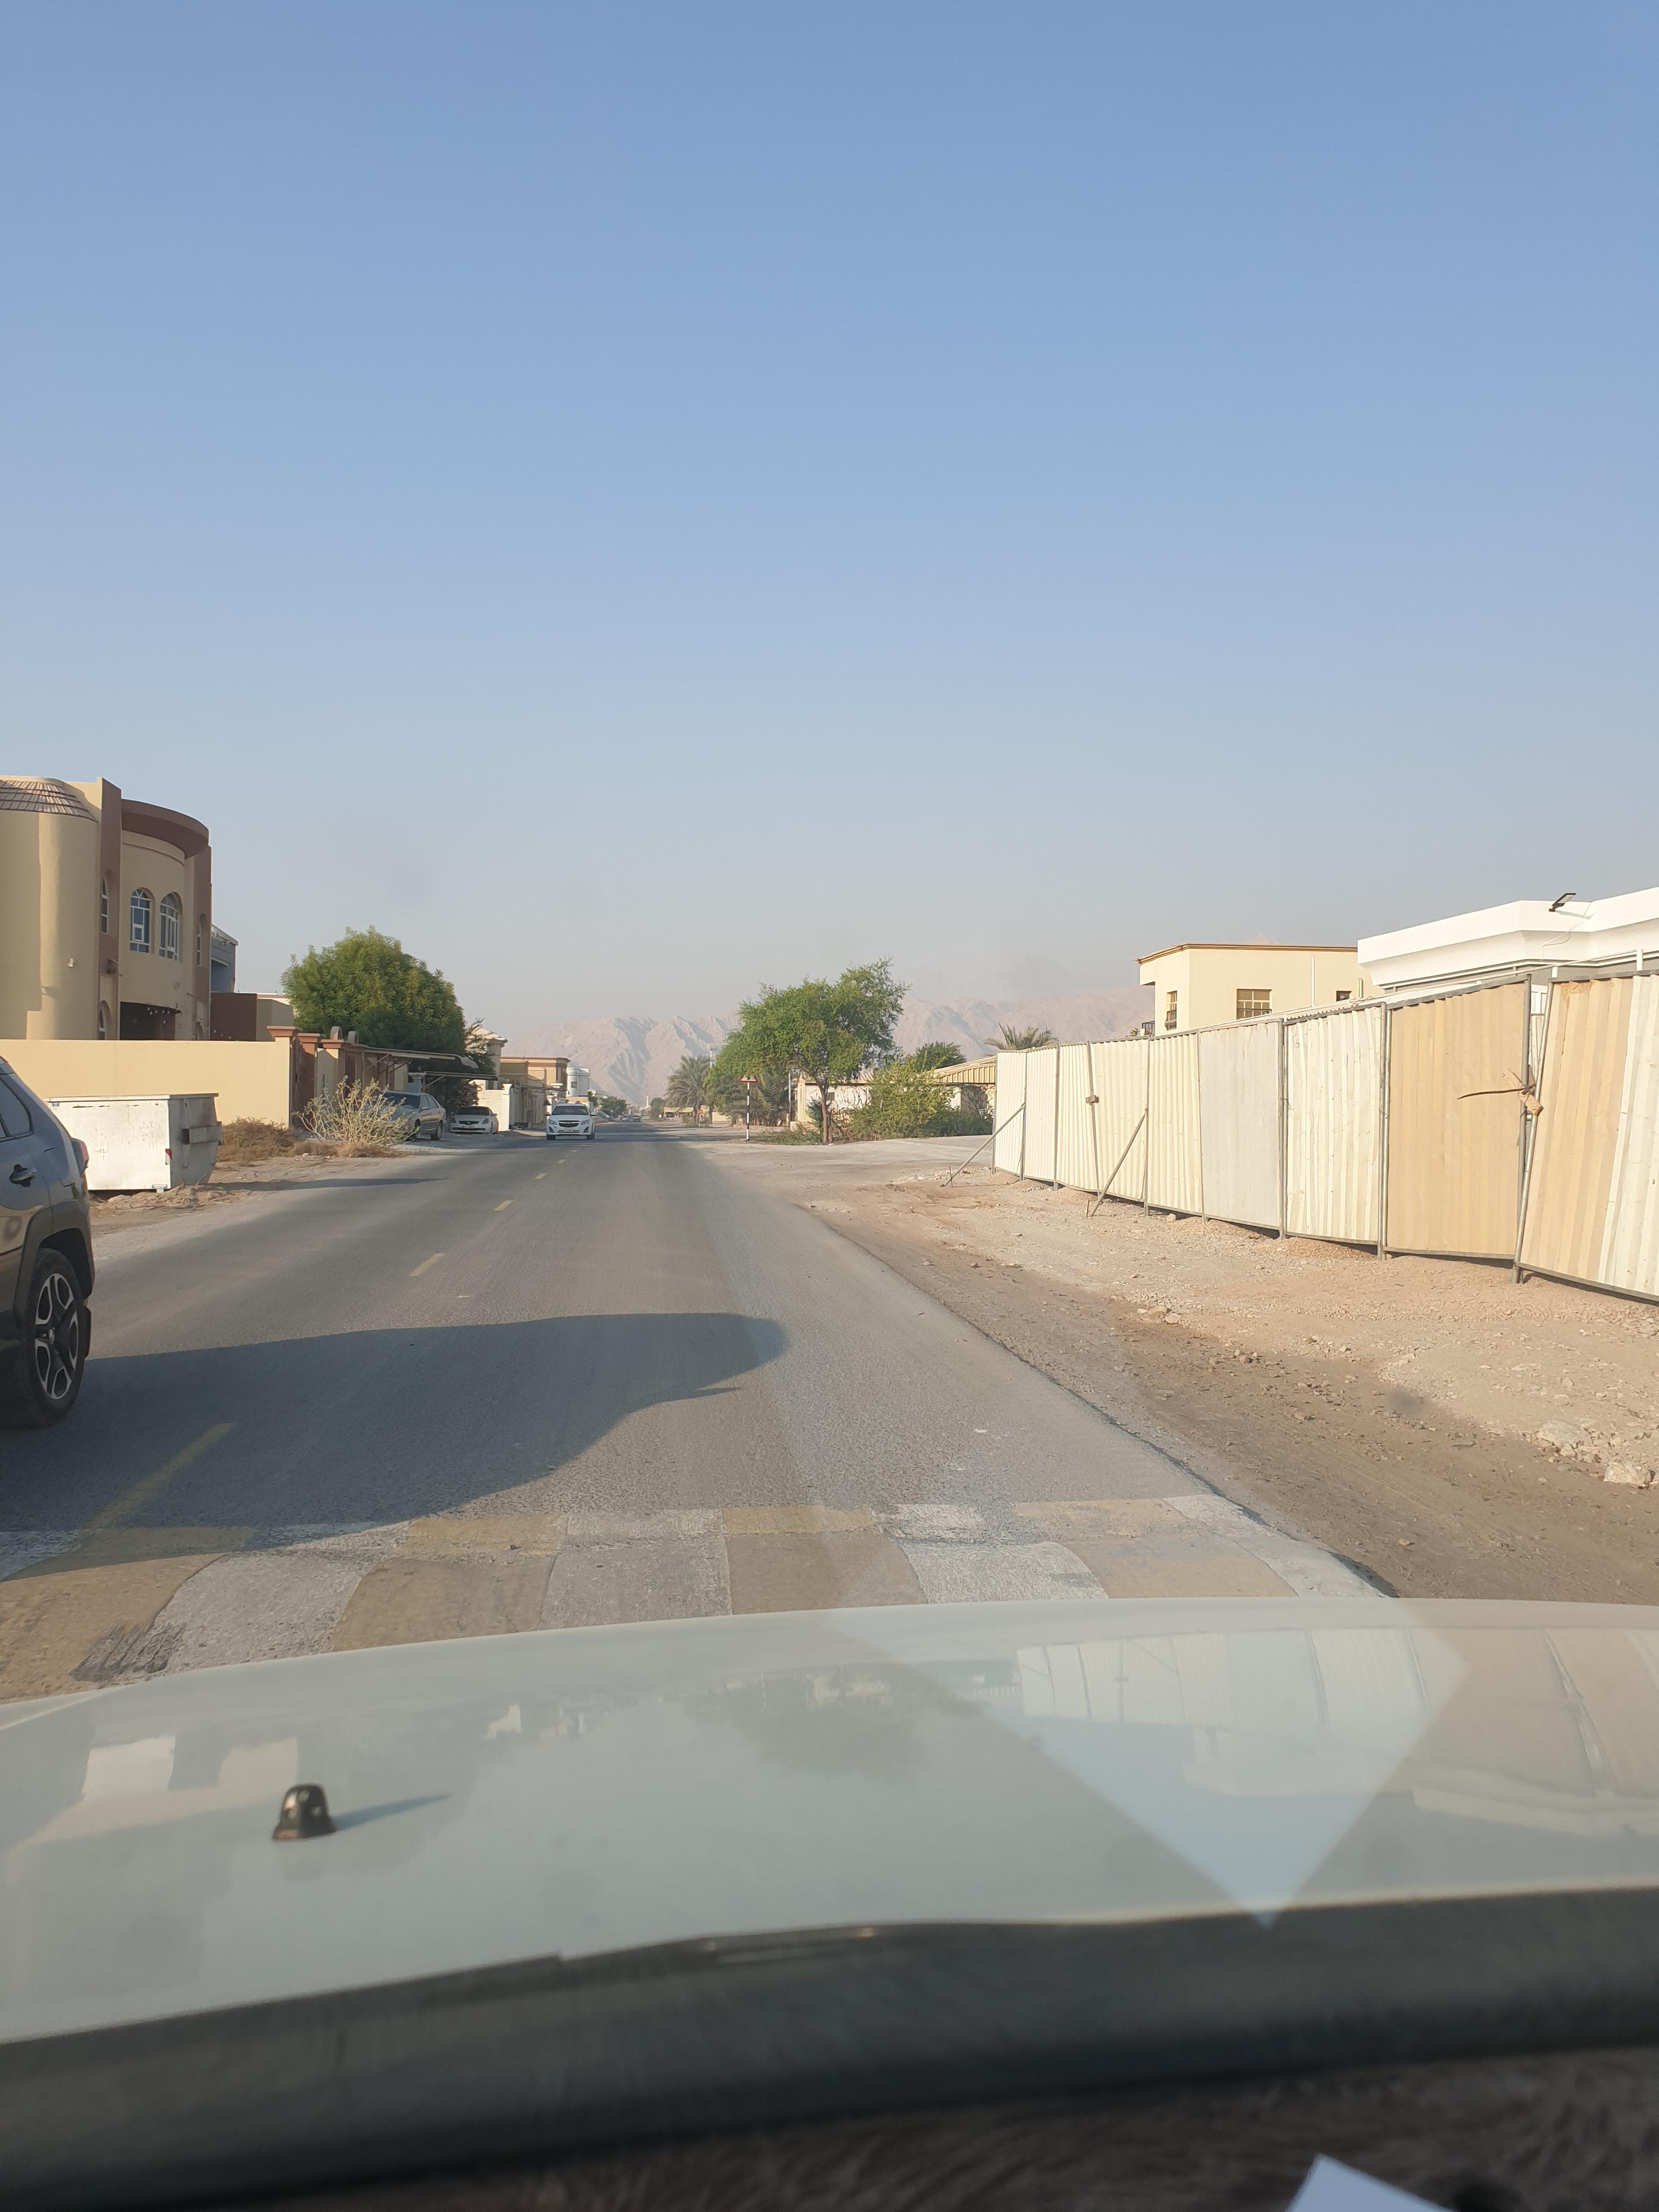fallen_trees: (240, 1141, 378, 1158), (298, 1146, 378, 1163)
